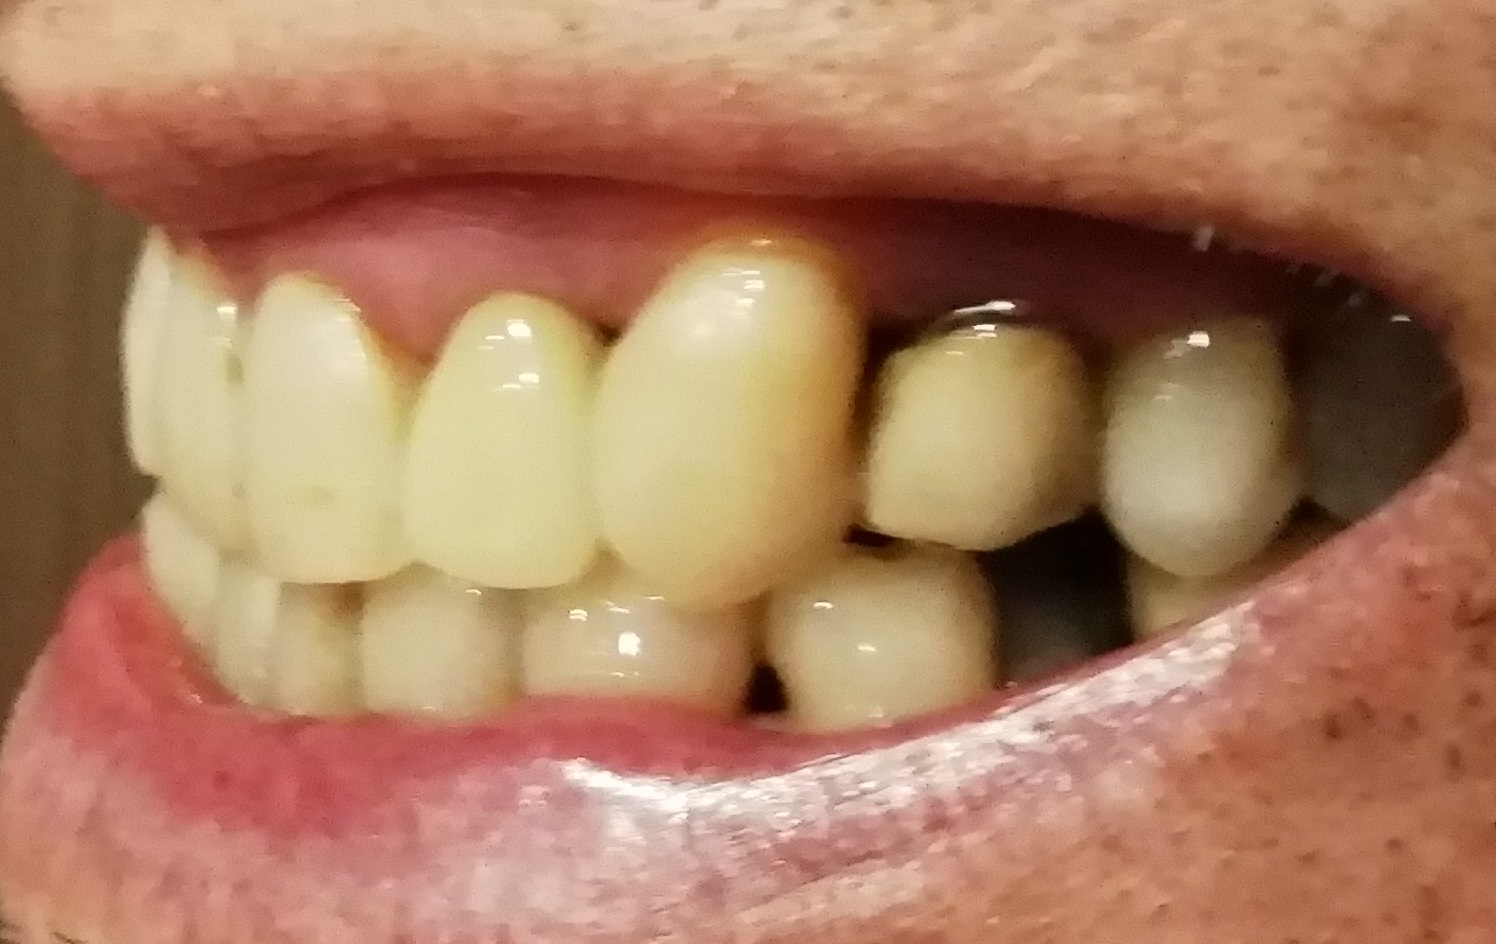boca: (115, 214, 1429, 725)
